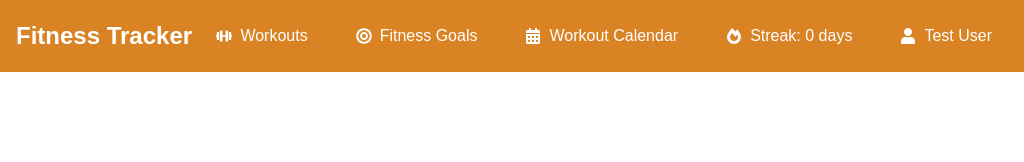
Navbar Component › renders the workouts dropdown correctly when toggled
This screenshot has width=1024, height=162.
Click the button "Workouts".
click(262, 36)  # box [200,16,324,56]
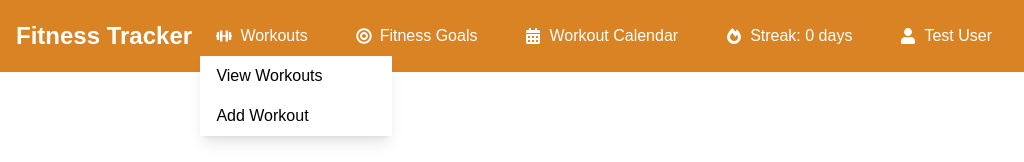
Expected: the link "View Workouts" is shown, [216,67,322,84]
Expected: the link "Add Workout" is shown, [216,107,309,124]
